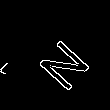N_SE: (33, 34, 96, 97)
